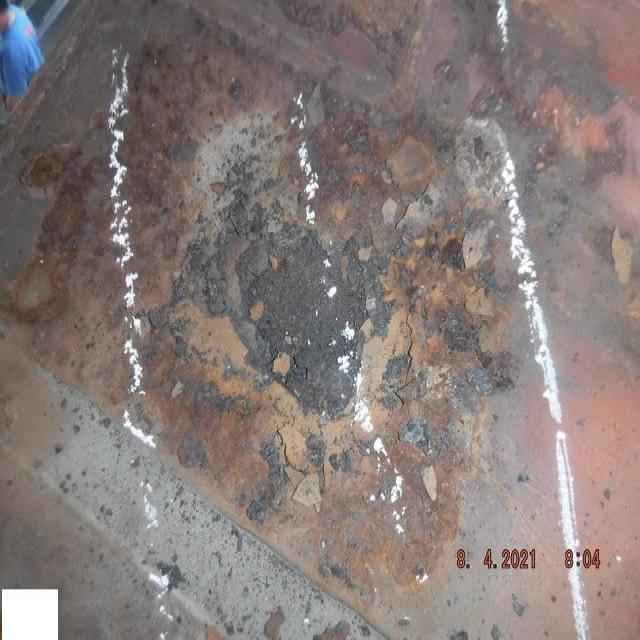rust: (104, 42, 519, 616), (3, 138, 97, 341)
